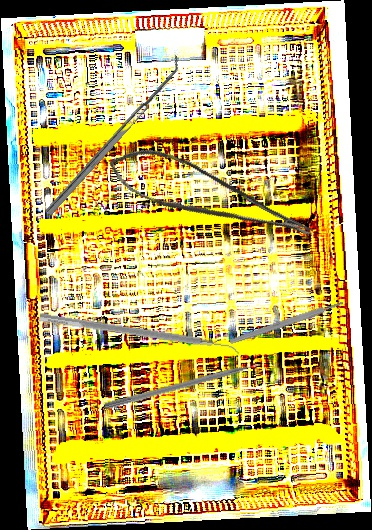Micro Scissor: (101, 130, 317, 272)
Pusher: (102, 357, 276, 412)
Scalpel Handle: (229, 299, 344, 346)
Spatula Surgical: (39, 54, 187, 216), (37, 312, 242, 359)
